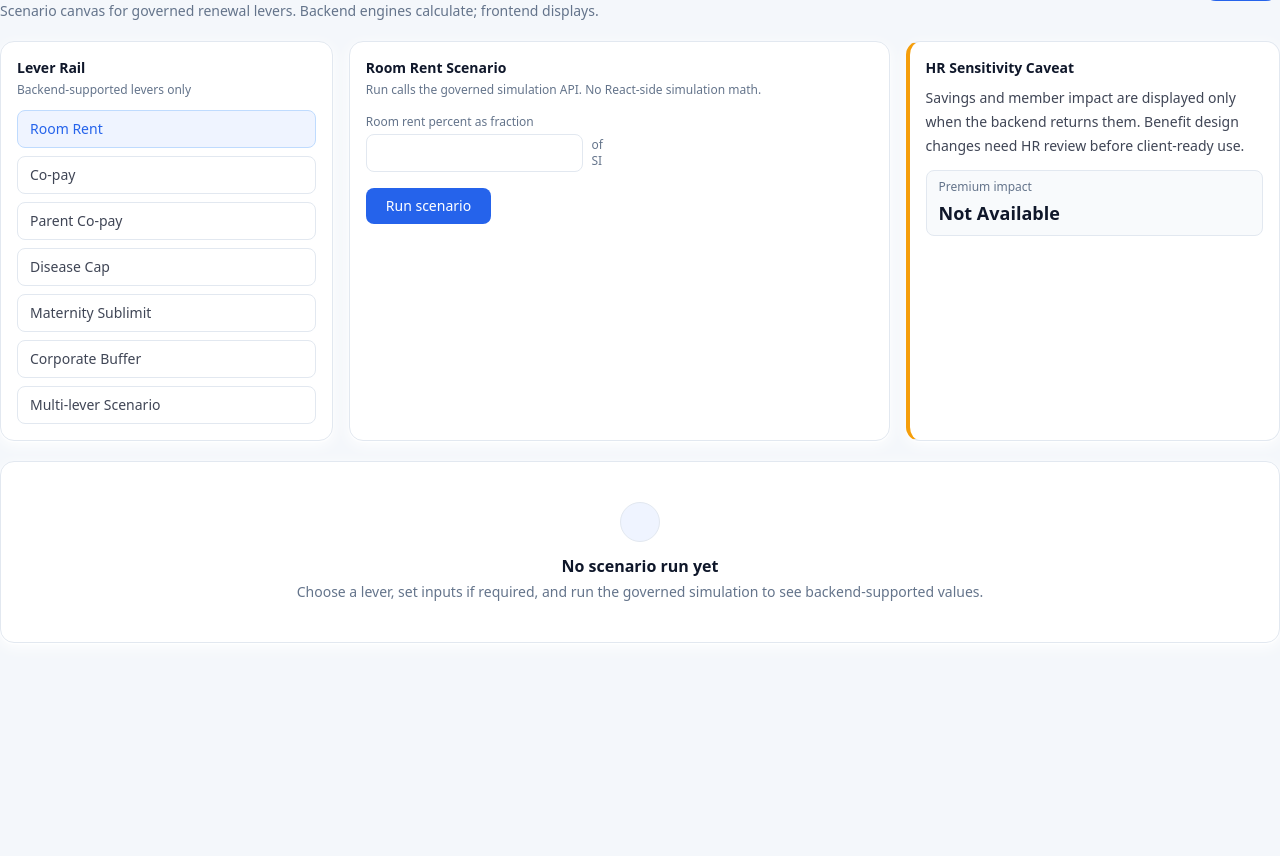
Test: Savings Sandbox (API-driven) › co-pay shows member out-of-pocket (employee impact)
This screenshot has width=1280, height=856.
Click the button with test id "lever-copay". click: (53, 174)
box: 17,156 -> 316,194
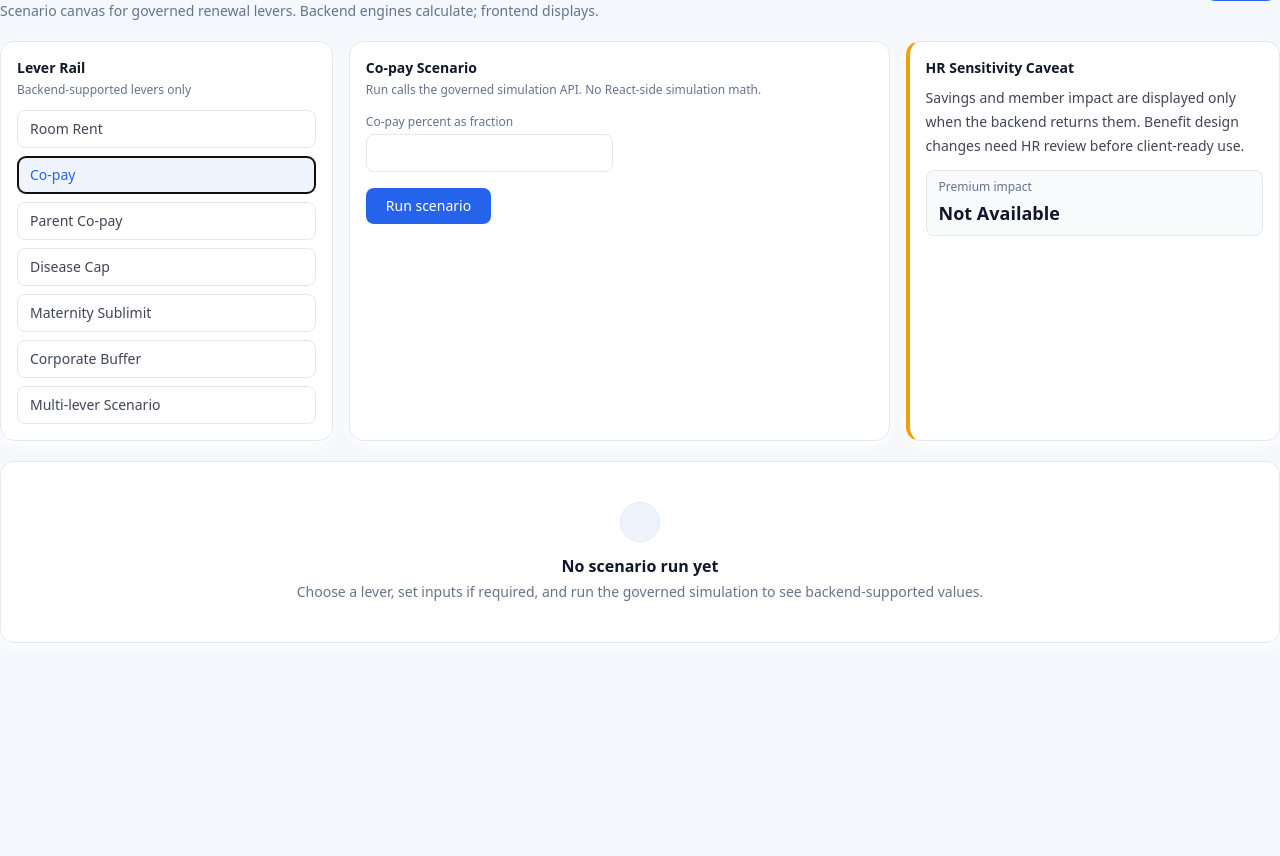
Type "0.10" into the number field labelled "Co-pay percent as fraction". click: (490, 153)
box: 366,134 -> 613,172
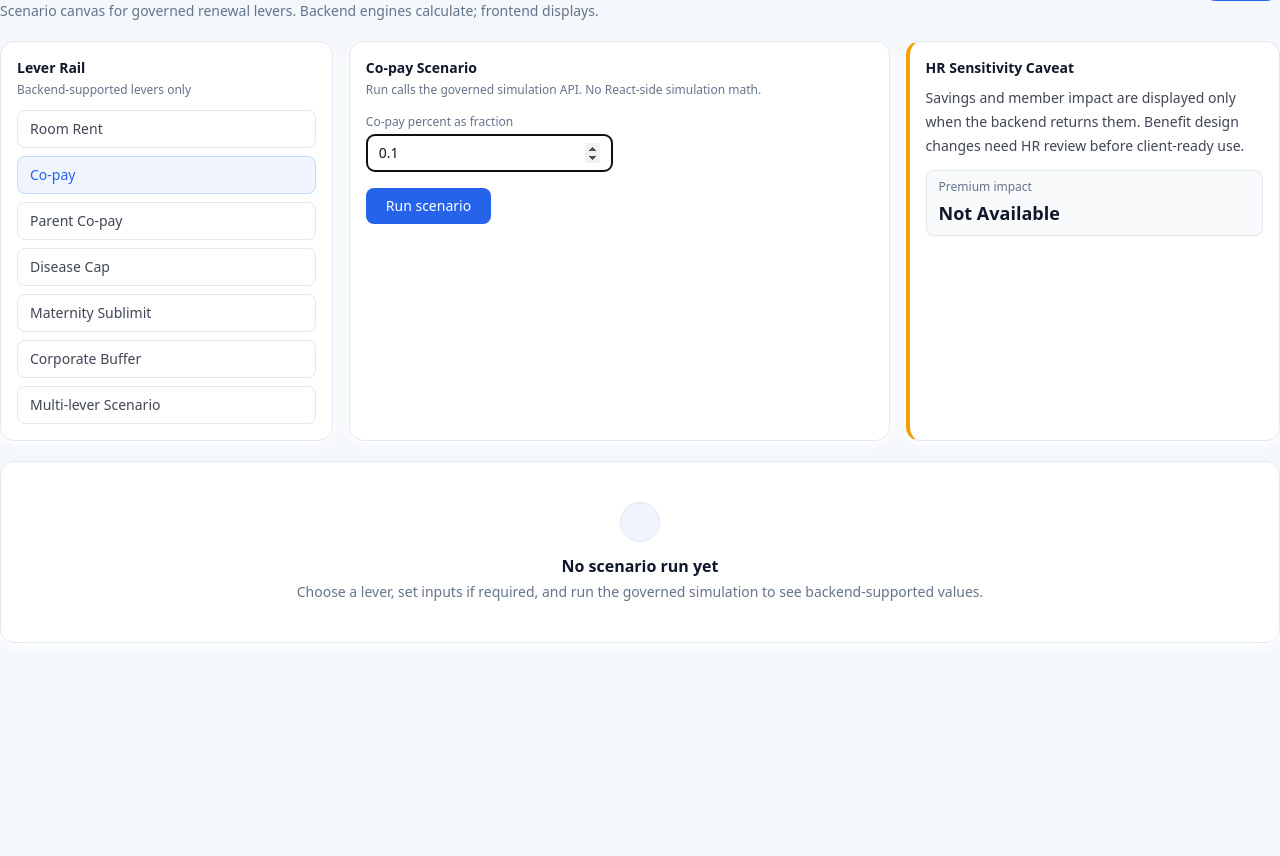
Click the button with test id "run-scenario". click: (428, 206)
box: 366,188 -> 491,224
(page scrolled)
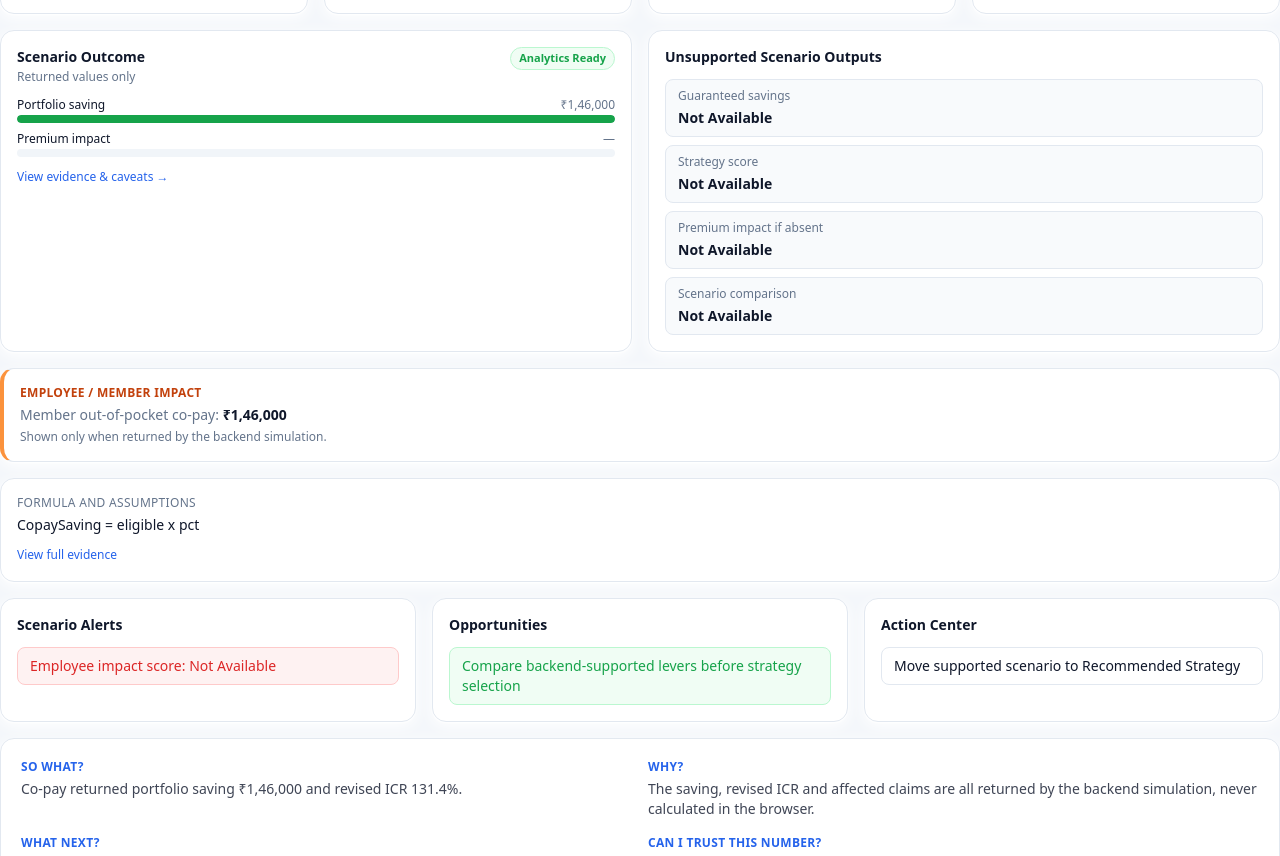
Expected: the element with test id "employee-impact" shows "Member out-of-pocket", 20,405 -> 215,424
